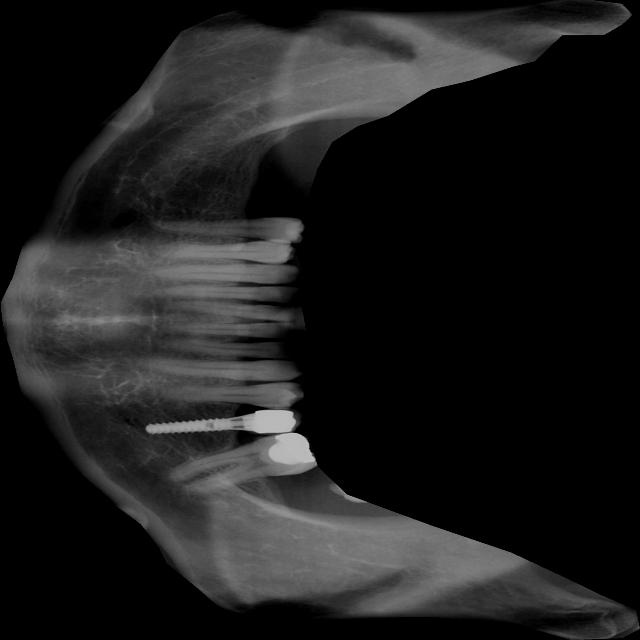mandibula: (0, 0, 639, 640)
